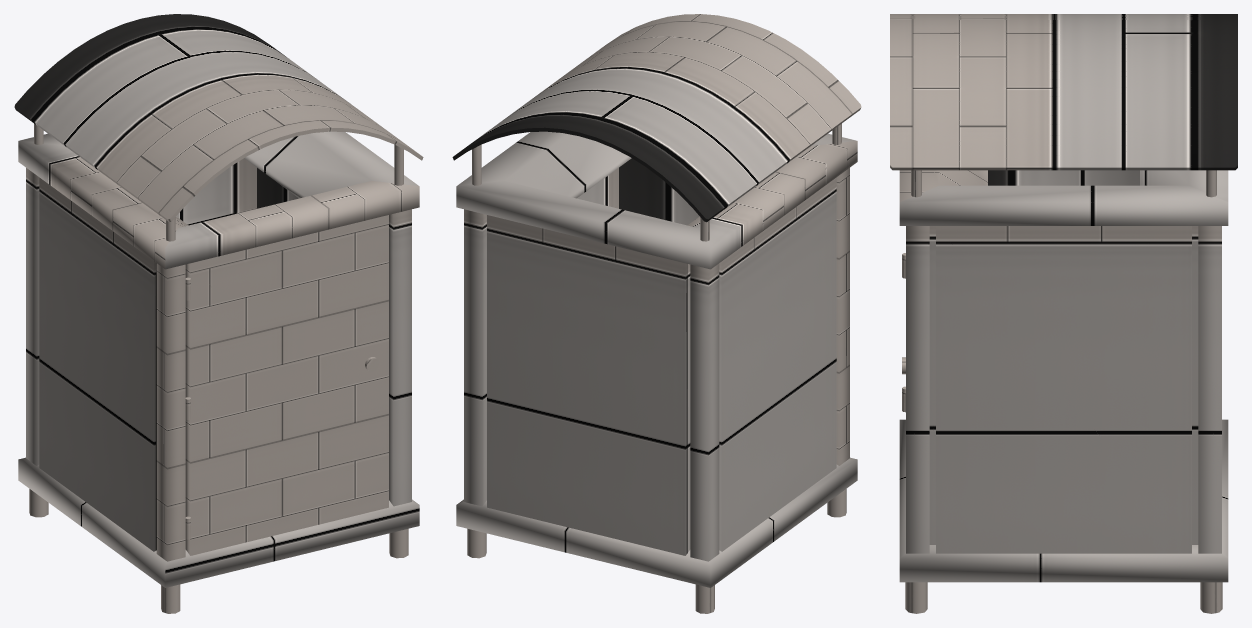
File: GarbageBin_1_V1.fbx
3 renders of one model, left to right at view 1: azimuth 30°, elevation 25°; view 2: azimuth 150°, elevation 25°; view 3: azimuth 270°, elevation 25°, orthographic. The views are drawn at different scales.
Visible parts, largest first — view 1: GarbageBin_1_V1; view 2: GarbageBin_1_V1; view 3: GarbageBin_1_V1.
Boxes of the visible parts, x1,y1,x2,y2 form: GarbageBin_1_V1: (14, 14, 423, 613); GarbageBin_1_V1: (452, 14, 861, 613); GarbageBin_1_V1: (890, 14, 1237, 613).
Bounding box in the file's own units: 78.4 × 134 × 82.55.
